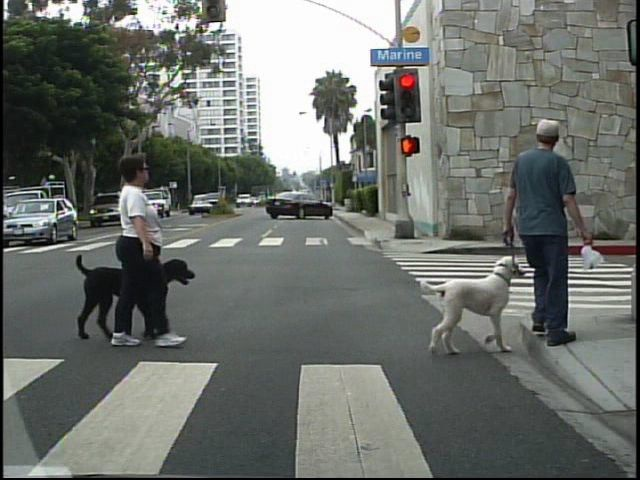person: (490, 115, 604, 357), (93, 145, 188, 349)
